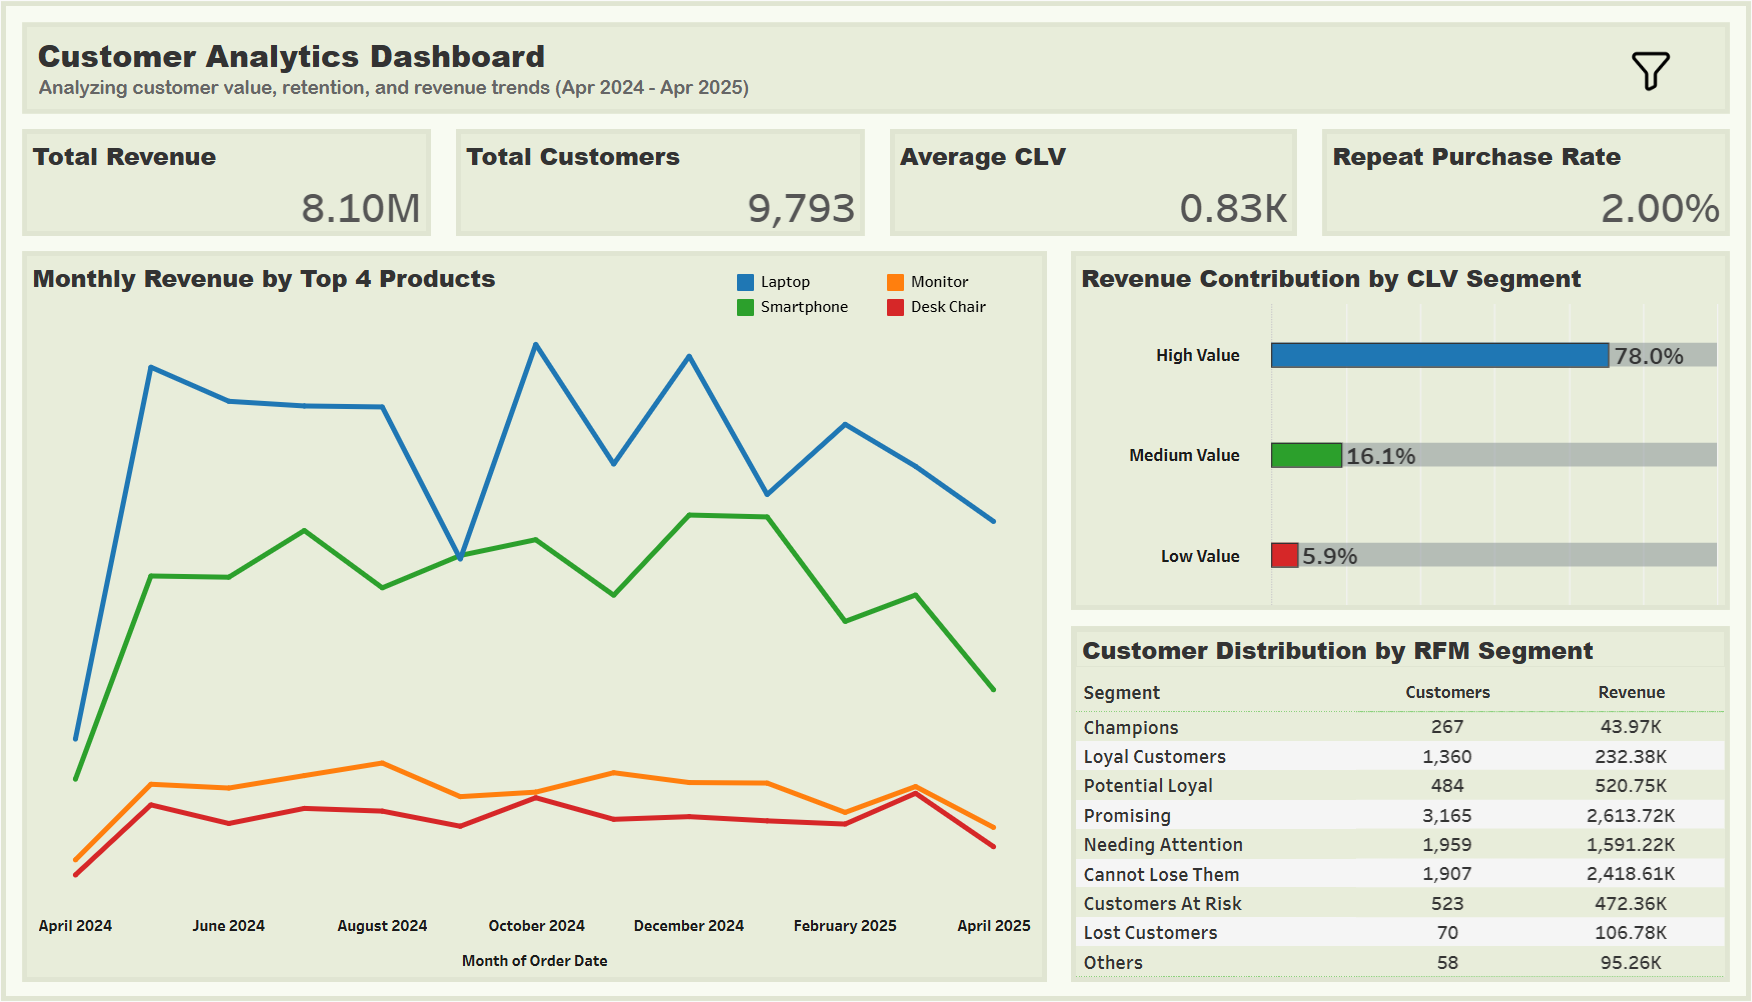

The page's visual inventory and layout, read from the dashboard file:
{"tool":"tableau","page":{"name":"Dashboard 1","canvas":[1400,800],"ordinal":0},"visuals":[{"type":"text","box":[29,24,536,38]},{"type":"dashboard-object","box":[1298.5,34.7,42,42.7]},{"type":"text","box":[30,51,689,35]},{"type":"worksheet","title":"KPI 1","mark":"Automatic","box":[7,92,347,106]},{"type":"worksheet","title":"KPI 2","mark":"Automatic","box":[354,92,347,106]},{"type":"worksheet","title":"KPI 3","mark":"Automatic","box":[701,92,346,106]},{"type":"worksheet","title":"KPI 4","mark":"Automatic","box":[1047,92,346,106]},{"type":"filter","title":"main chart","param":"[federated.1w1gjjf10y2jdx1g1e9lq09tljp1].[tmn:OrderDate:qk]","box":[1060,93,244,77]},{"type":"filter","title":"secondry chart","param":"[federated.1w1gjjf10y2jdx1g1e9lq09tljp1].[none:CLV_Segment:nk]","box":[1060,170,244,76]},{"type":"worksheet","title":"main chart","mark":"Line","rows":["Revenue"],"cols":["OrderDate"],"box":[7,190.2,840,604.4]},{"type":"worksheet","title":"secondry chart","mark":"Bar","rows":["CLV_Segment"],"cols":["Calculation_1485624978531229696","total_revenue"],"box":[846.1,190.2,546.9,306.7]},{"type":"legend","title":"main chart","param":"[federated.1w1gjjf10y2jdx1g1e9lq09tljp1].[none:Product:nk]","box":[586,215,244,56]},{"type":"filter","title":"detailed chart","param":"[federated.1w1gjjf10y2jdx1g1e9lq09tljp1].[none:Segment:nk]","box":[1060,246,244,76]},{"type":"filter","title":"main chart","param":"[federated.1w1gjjf10y2jdx1g1e9lq09tljp1].[none:Product:nk]","box":[1060,322,244,76]},{"type":"worksheet","title":"detailed chart","mark":"Automatic","rows":["Segment"],"box":[846.1,489.8,546.9,304.9]}]}

Visuals, with their boxes in screenshot pixels (x1, y1, x2, y2), scaled from the page's 1400x800 canvas onto the 1752x1002 screenshot:
text: <box>36,30,707,78</box>
dashboard-object: <box>1625,43,1678,97</box>
text: <box>38,64,900,108</box>
"KPI 1" worksheet: <box>9,115,443,248</box>
"KPI 2" worksheet: <box>443,115,877,248</box>
"KPI 3" worksheet: <box>877,115,1310,248</box>
"KPI 4" worksheet: <box>1310,115,1743,248</box>
"main chart" filter: <box>1327,116,1632,213</box>
"secondry chart" filter: <box>1327,213,1632,308</box>
"main chart" worksheet (Line marks): <box>9,238,1060,995</box>
"secondry chart" worksheet (Bar marks): <box>1059,238,1743,622</box>
"main chart" legend: <box>733,269,1039,339</box>
"detailed chart" filter: <box>1327,308,1632,403</box>
"main chart" filter: <box>1327,403,1632,498</box>
"detailed chart" worksheet: <box>1059,613,1743,995</box>
